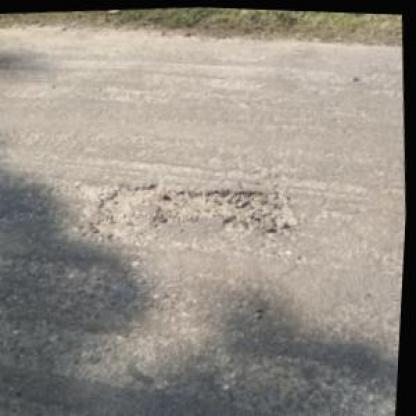pothole: (96, 169, 306, 246)
